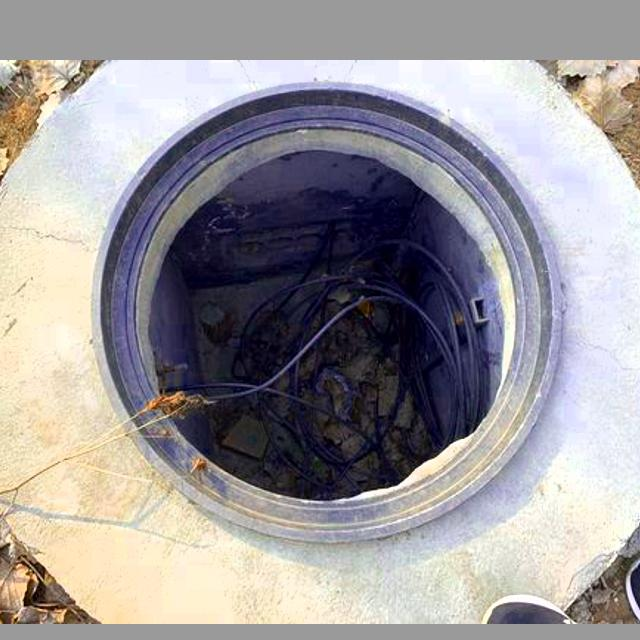lose: (0, 68, 640, 611)
